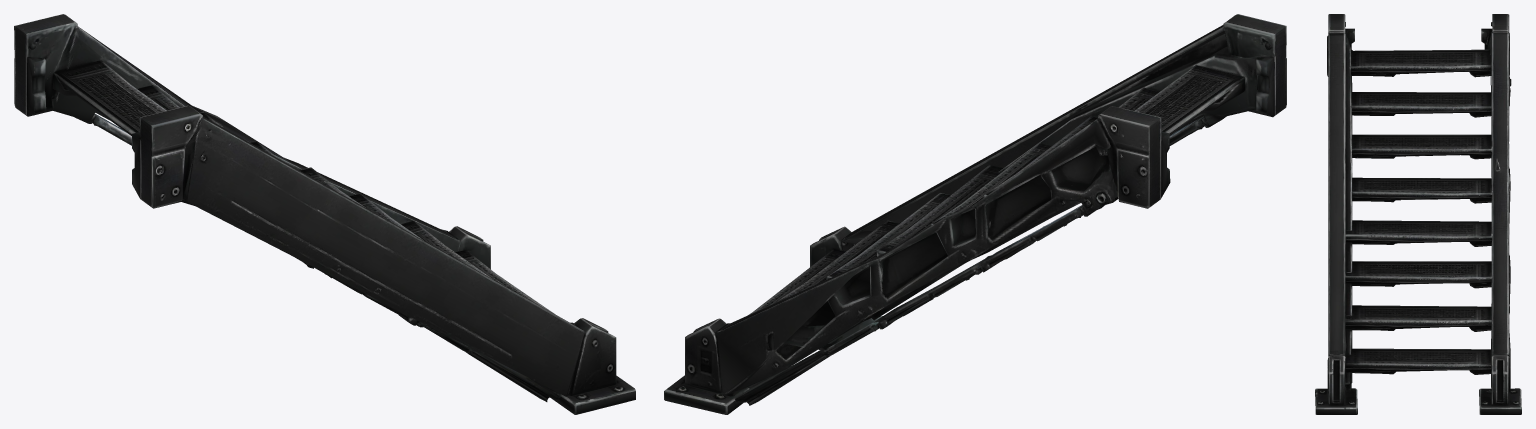
Rendered from sci-fi-stargate-props-metal-staircase-steps.glb.
The picture shows the model from 3 angles, left to right: view 1: azimuth 30°, elevation 25°; view 2: azimuth 150°, elevation 25°; view 3: azimuth 270°, elevation 25°; orthographic projection. The views are drawn at different scales.
Visible parts, largest first — view 1: Metal Staircase Steps; view 2: Metal Staircase Steps; view 3: Metal Staircase Steps.
Part boxes in pixels (bbox=[...]): Metal Staircase Steps: bbox=[14, 14, 635, 414]; Metal Staircase Steps: bbox=[664, 14, 1286, 414]; Metal Staircase Steps: bbox=[1315, 14, 1521, 414].
Size of the model in its own units: 0.998 by 0.7676 by 0.5762.
1 material, 1 textured.
